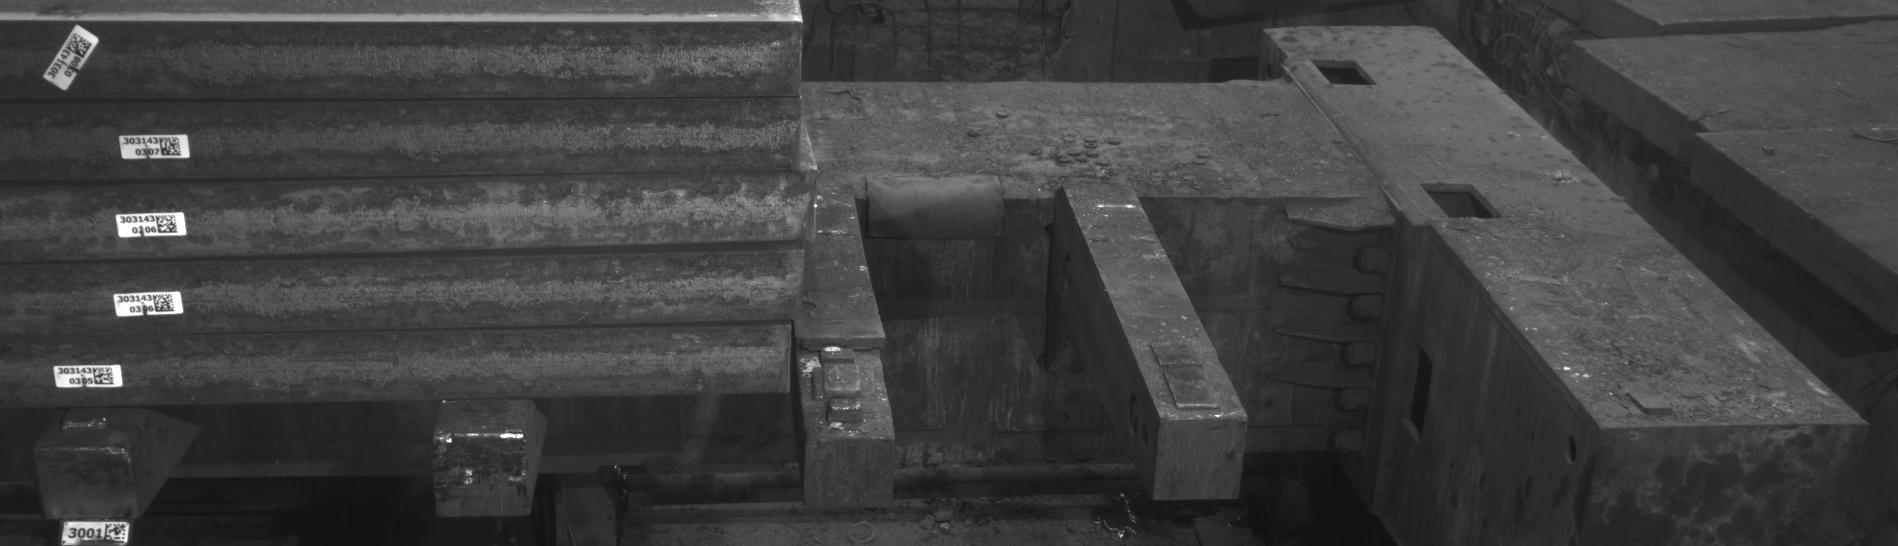data matrix: (65, 31, 94, 61), (103, 523, 130, 546), (159, 137, 184, 159), (156, 214, 180, 236), (153, 294, 176, 315), (93, 367, 116, 387)
